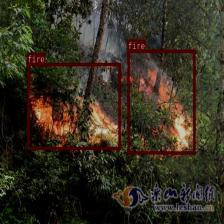fire: (27, 63, 120, 149), (127, 49, 195, 154)
